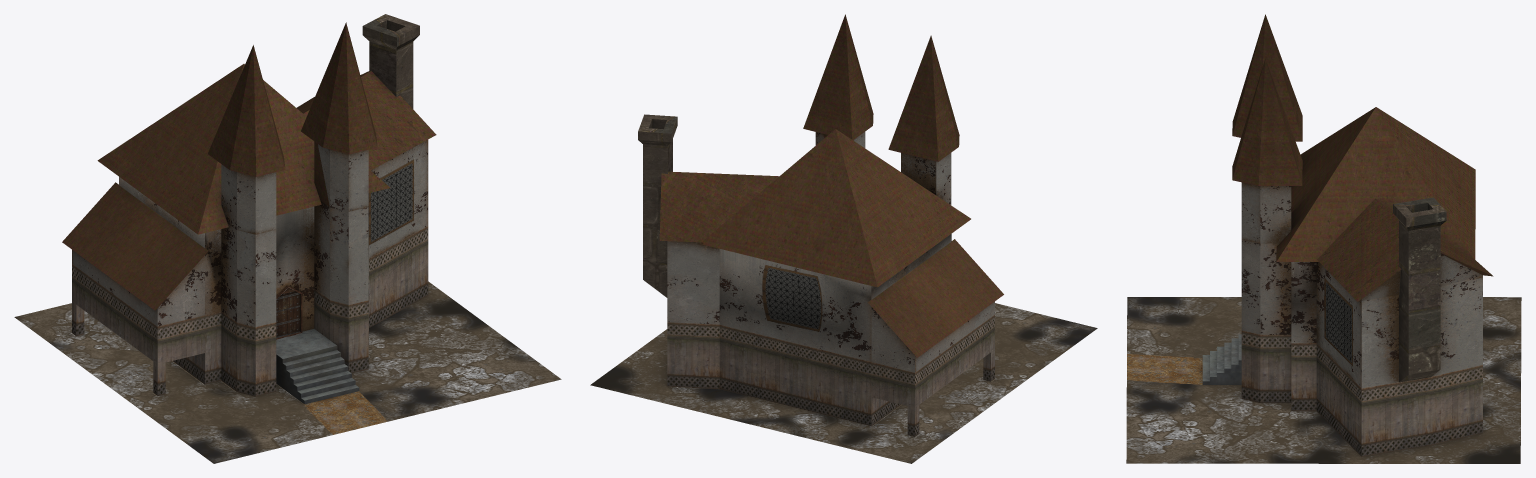
The model's file is Town Hall.FBX.
The picture shows the model from 3 angles, left to right: view 1: azimuth 30°, elevation 25°; view 2: azimuth 150°, elevation 25°; view 3: azimuth 270°, elevation 25°; orthographic projection. The views are drawn at different scales.
Parts seen in each view (by area): view 1: Town Hall; view 2: Town Hall; view 3: Town Hall.
Part boxes in pixels (x1=…): Town Hall: x1=14, y1=14, x2=561, y2=463; Town Hall: x1=590, y1=14, x2=1097, y2=463; Town Hall: x1=1126, y1=14, x2=1521, y2=463.
Bounding box in the file's own units: 11.83 × 11.07 × 11.81.
